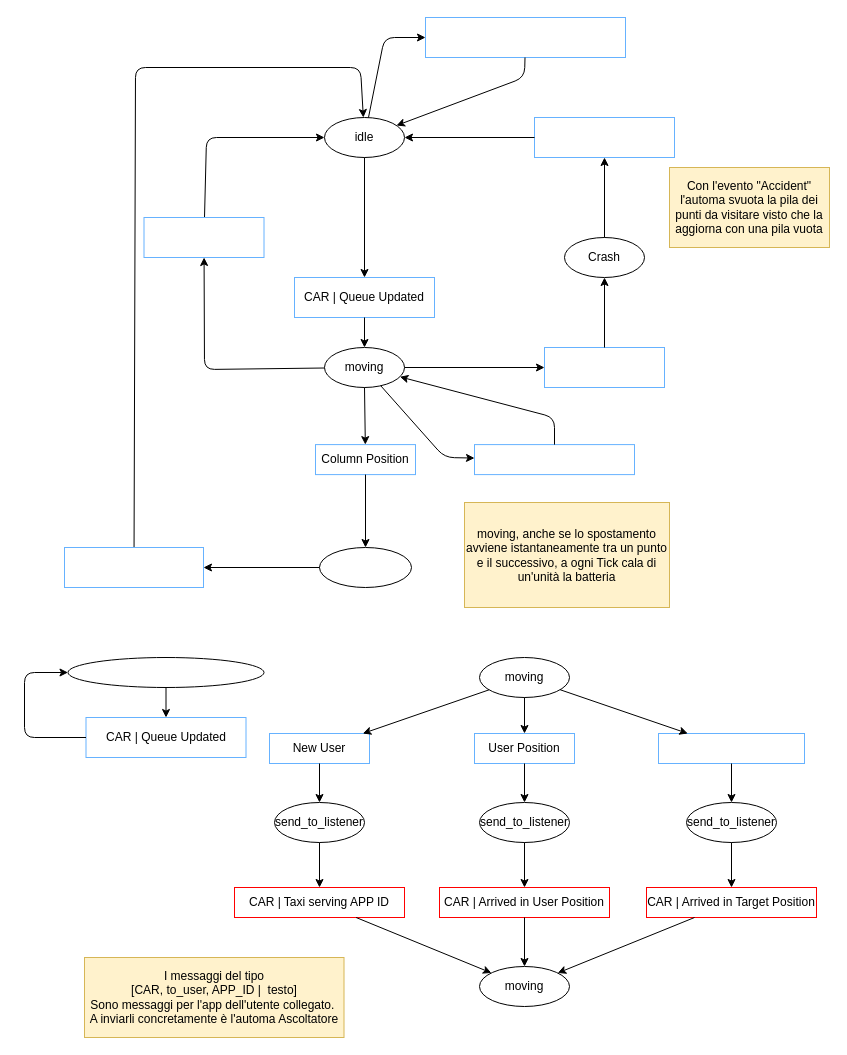
The diagram is 847 pixels wide and 1055 high, and some of its shapes have lost their labels. Each missing label, with the centre of its shape:
"CAR | Accident" goes at point 604,367.
"CAR | Battery Charged From Sun" goes at point 525,37.
"CAR | Battery Reloaded" goes at point 134,567.
"CAR | Enable_Path_Charge" goes at point 554,459.
"CAR | Fixed Problems" goes at point 604,137.
"idle | moving | recharging_col" goes at point 165,672.
"No Next Point" goes at point 203,237.
"recharging_col" goes at point 365,567.
"User Target Position" goes at point 731,748.
